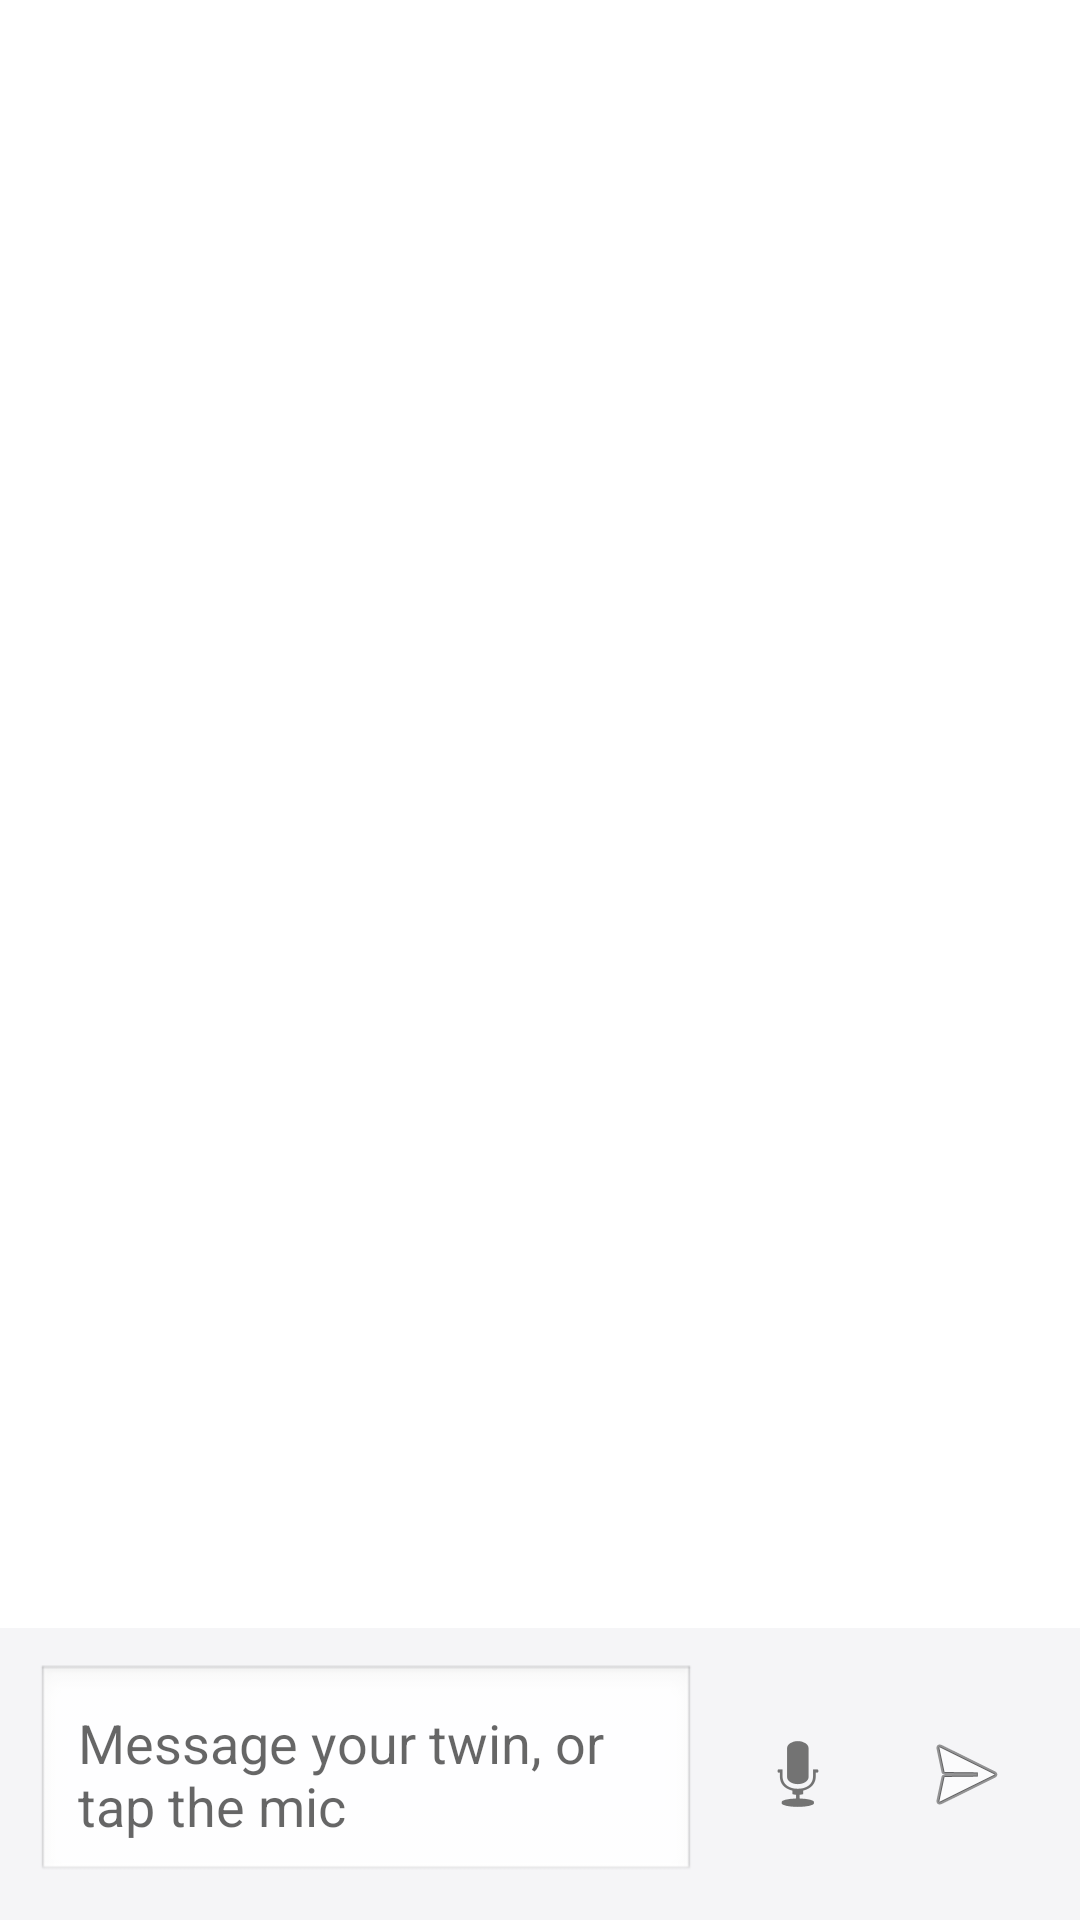

Locate icon controls on the screen. Image size 1080×1920, boxes as {"left": x1, "top": y1, "right": x2, "bottom": y2}.
Send: {"left": 936, "top": 1744, "right": 998, "bottom": 1805}
Voice input: {"left": 777, "top": 1741, "right": 819, "bottom": 1807}
